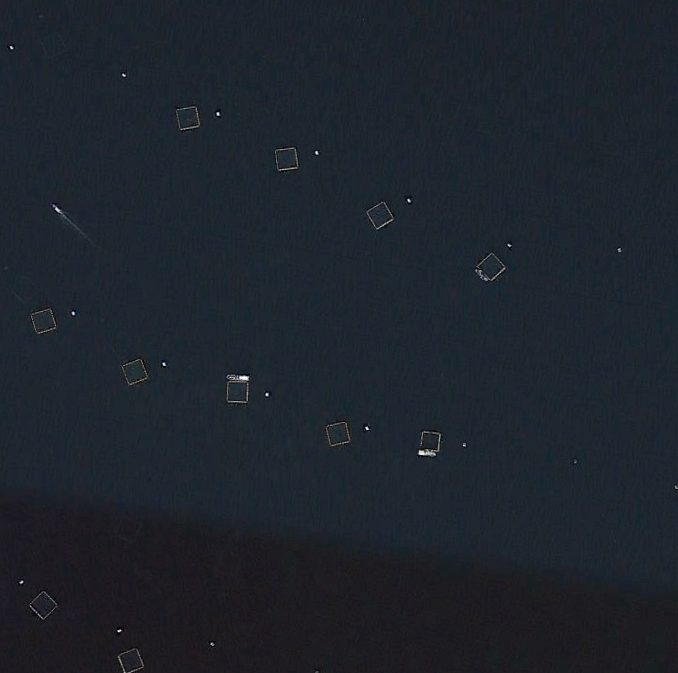ship: (416, 445, 440, 465), (224, 368, 247, 384), (49, 197, 65, 214)
square: (346, 190, 392, 236), (462, 247, 510, 291), (306, 412, 355, 454), (258, 136, 302, 180), (208, 379, 260, 415), (110, 345, 145, 386), (25, 301, 63, 337), (410, 420, 447, 454), (22, 589, 57, 624), (173, 99, 207, 135), (106, 642, 144, 673)
